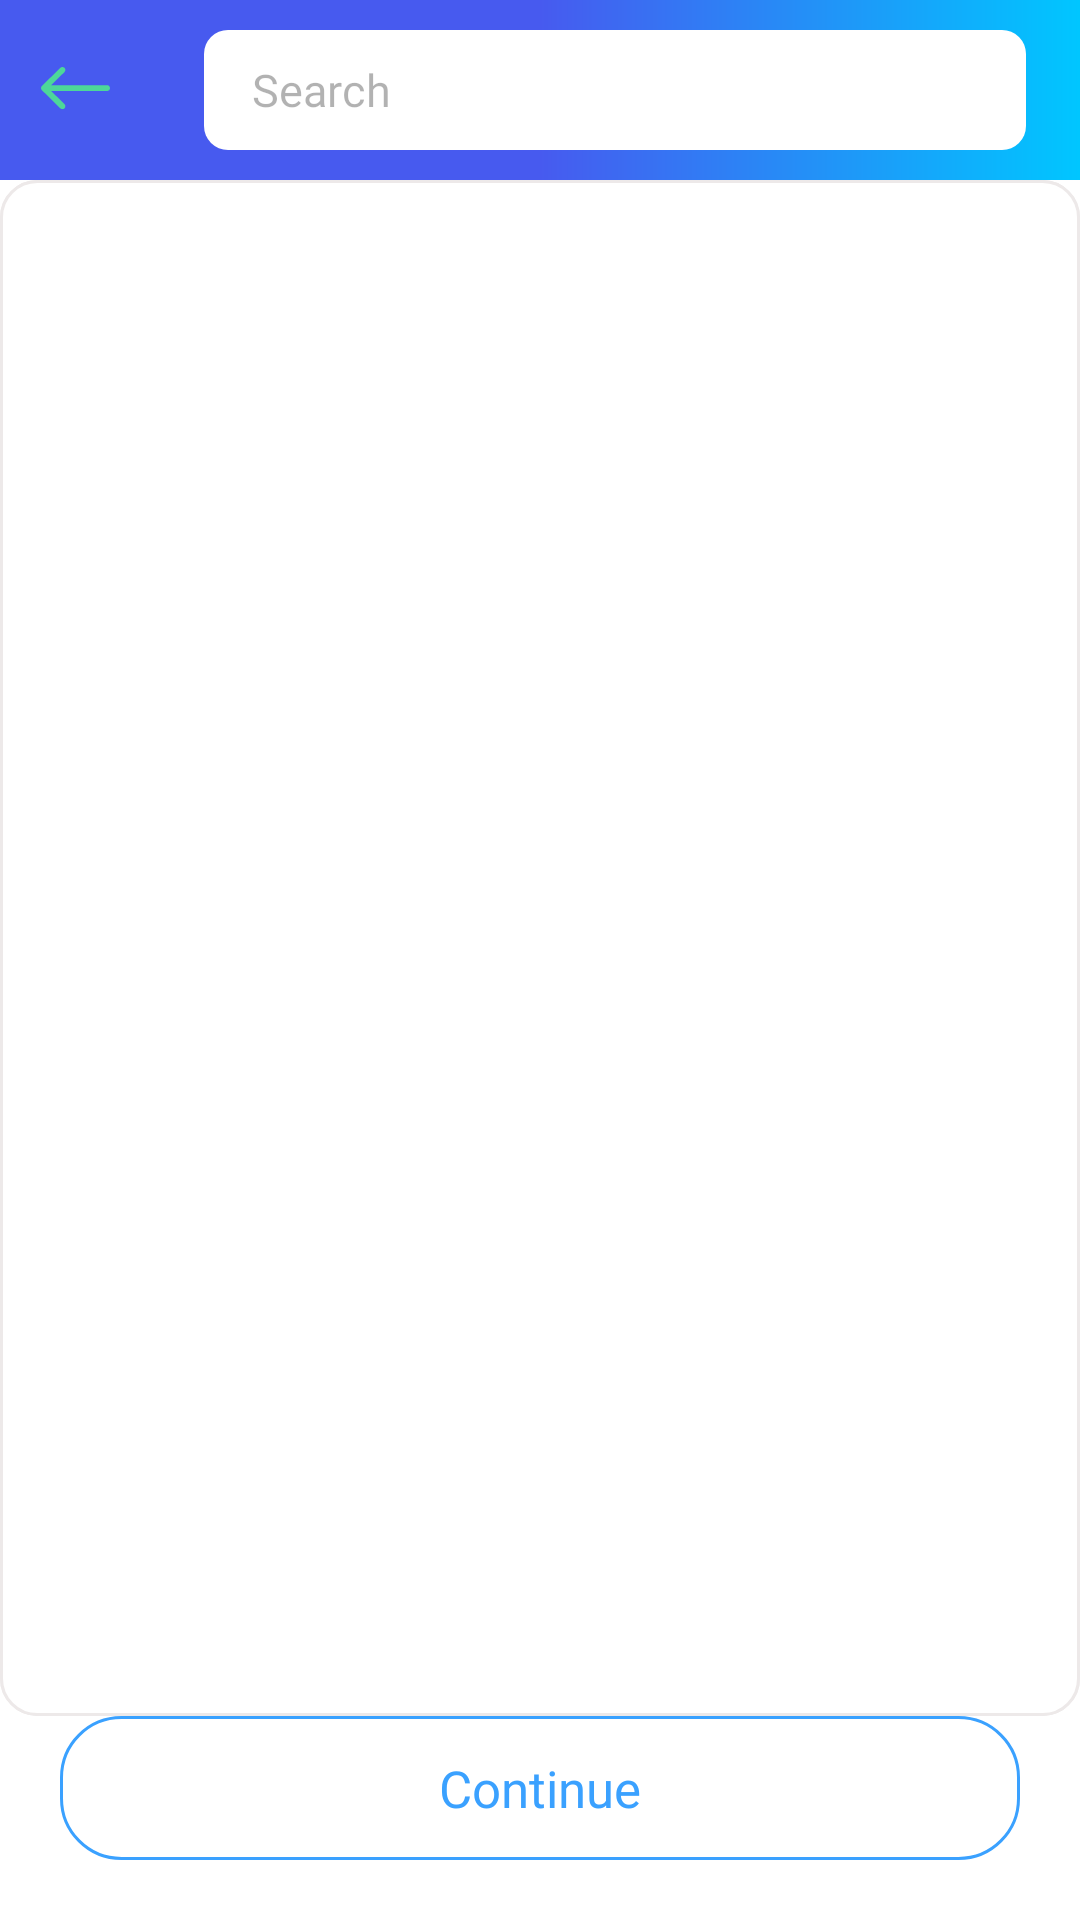

Icon click points for this 1080x1920 phone screenshot, format [x,y]:
arrow back: [75,88]
